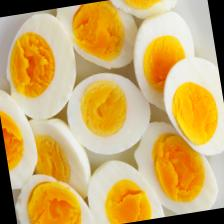egg: (127, 112, 221, 220), (0, 6, 83, 126), (60, 66, 156, 160), (155, 50, 224, 162), (22, 109, 96, 209), (53, 0, 144, 77), (81, 151, 164, 224), (9, 164, 98, 224)
